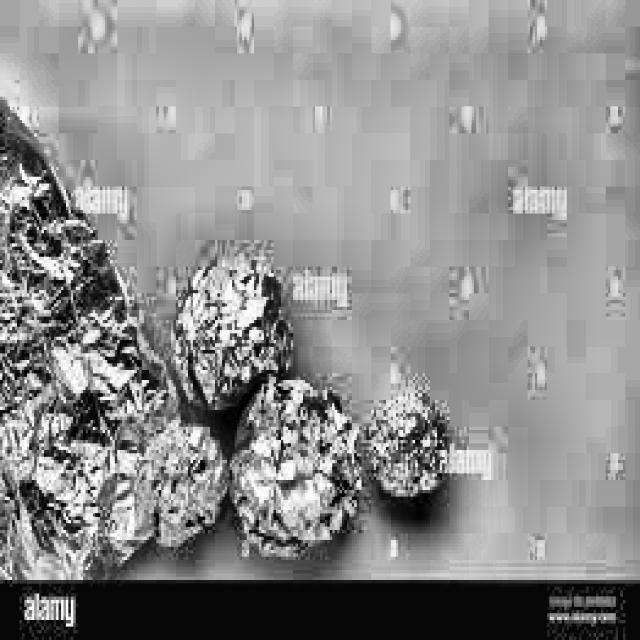Foil: (0, 70, 200, 580), (232, 375, 366, 558), (172, 236, 288, 411), (124, 424, 234, 555), (364, 374, 463, 512)
